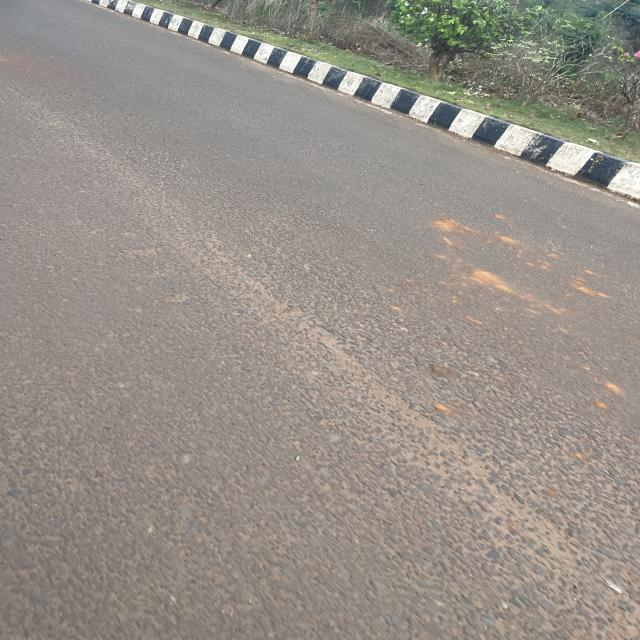D43: (279, 311, 526, 538)
